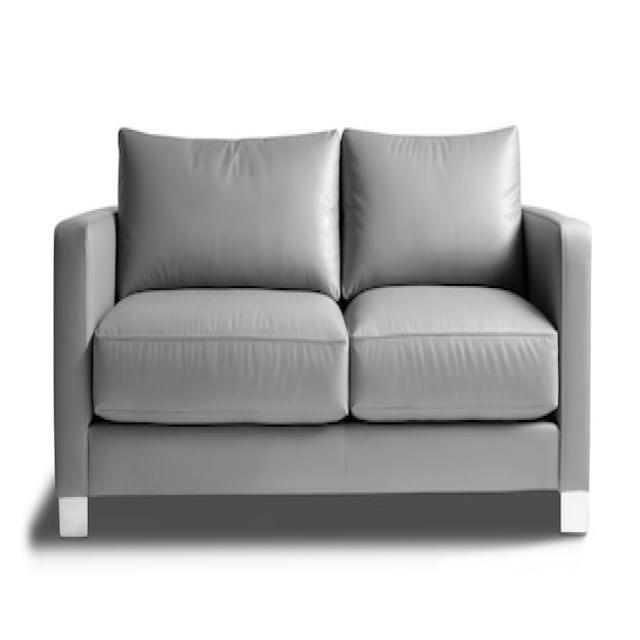sofa: (52, 121, 592, 539)
